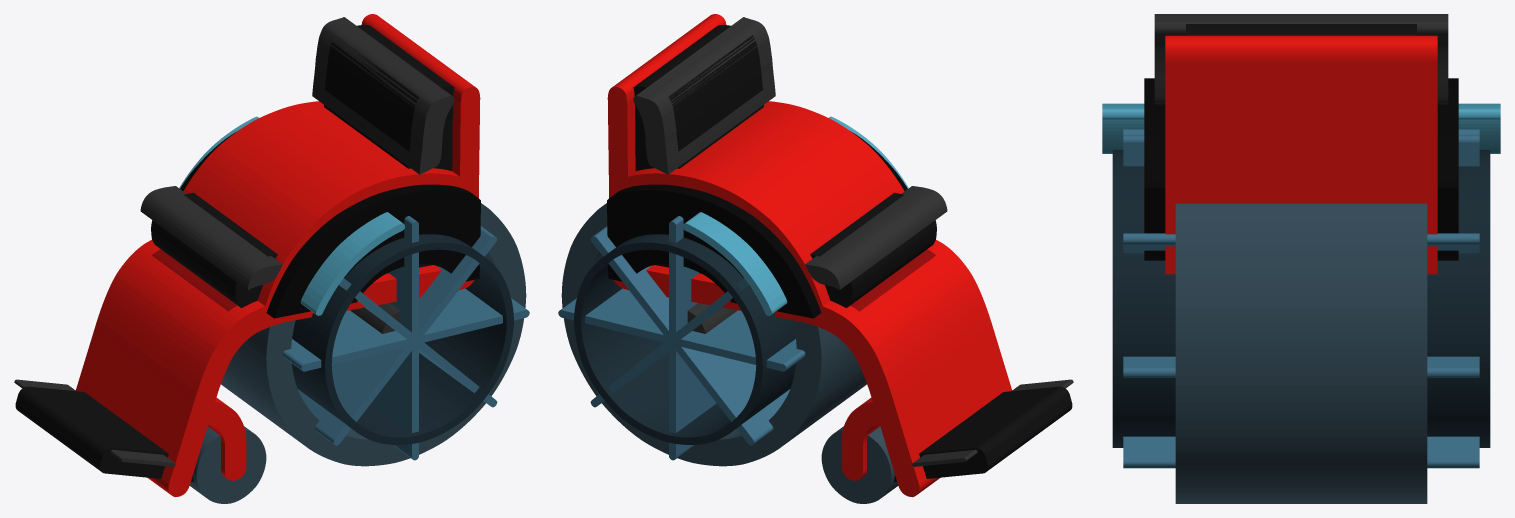
3 renders of one model, left to right at view 1: azimuth 30°, elevation 25°; view 2: azimuth 150°, elevation 25°; view 3: azimuth 270°, elevation 25°, orthographic. The views are drawn at different scales.
Visible parts, largest first — view 1: U+1F9BD_layer03_obj00, U+1F9BD_layer03_obj01, U+1F9BD_layer08_obj00, U+1F9BD_layer02_obj01, U+1F9BD_layer05_obj00, U+1F9BD_layer04_obj00, U+1F9BD_layer01_obj02, U+1F9BD_layer01_obj03, U+1F9BD_layer07_obj02, U+1F9BD_layer04_obj01, U+1F9BD_layer07_obj00, U+1F9BD_layer07_obj04 (+7 smaller); view 2: U+1F9BD_layer03_obj00, U+1F9BD_layer03_obj01, U+1F9BD_layer08_obj00, U+1F9BD_layer02_obj01, U+1F9BD_layer05_obj00, U+1F9BD_layer04_obj00, U+1F9BD_layer01_obj03, U+1F9BD_layer01_obj02, U+1F9BD_layer07_obj02, U+1F9BD_layer04_obj01, U+1F9BD_layer07_obj00, U+1F9BD_layer07_obj04 (+7 smaller); view 3: U+1F9BD_layer02_obj01, U+1F9BD_layer03_obj00, U+1F9BD_layer08_obj00, U+1F9BD_layer05_obj00, U+1F9BD_layer04_obj00, U+1F9BD_layer07_obj03, U+1F9BD_layer09_obj00, U+1F9BD_layer01_obj03, U+1F9BD_layer07_obj00, U+1F9BD_layer07_obj02, U+1F9BD_layer07_obj04.
Part boxes in pixels (bbox=[...]): U+1F9BD_layer03_obj00: bbox=[75, 14, 480, 497]; U+1F9BD_layer03_obj01: bbox=[183, 101, 473, 324]; U+1F9BD_layer08_obj00: bbox=[292, 234, 513, 444]; U+1F9BD_layer02_obj01: bbox=[221, 203, 526, 466]; U+1F9BD_layer05_obj00: bbox=[180, 131, 480, 318]; U+1F9BD_layer04_obj00: bbox=[312, 17, 454, 174]; U+1F9BD_layer01_obj02: bbox=[15, 386, 194, 481]; U+1F9BD_layer01_obj03: bbox=[324, 25, 454, 170]; U+1F9BD_layer07_obj02: bbox=[297, 226, 497, 445]; U+1F9BD_layer04_obj01: bbox=[140, 186, 282, 290]; U+1F9BD_layer07_obj00: bbox=[282, 288, 529, 371]; U+1F9BD_layer07_obj04: bbox=[371, 216, 418, 460]; U+1F9BD_layer03_obj00: bbox=[607, 14, 1012, 497]; U+1F9BD_layer03_obj01: bbox=[614, 101, 904, 324]; U+1F9BD_layer08_obj00: bbox=[574, 234, 795, 444]; U+1F9BD_layer02_obj01: bbox=[561, 203, 866, 466]; U+1F9BD_layer05_obj00: bbox=[607, 131, 907, 318]; U+1F9BD_layer04_obj00: bbox=[633, 17, 775, 174]; U+1F9BD_layer01_obj03: bbox=[633, 25, 763, 170]; U+1F9BD_layer01_obj02: bbox=[893, 386, 1072, 481]; U+1F9BD_layer07_obj02: bbox=[590, 226, 790, 445]; U+1F9BD_layer04_obj01: bbox=[805, 186, 947, 290]; U+1F9BD_layer07_obj00: bbox=[558, 288, 805, 371]; U+1F9BD_layer07_obj04: bbox=[669, 216, 716, 460]; U+1F9BD_layer02_obj01: bbox=[1175, 203, 1427, 503]; U+1F9BD_layer03_obj00: bbox=[1165, 35, 1437, 274]; U+1F9BD_layer08_obj00: bbox=[1112, 150, 1490, 447]; U+1F9BD_layer05_obj00: bbox=[1144, 78, 1458, 260]; U+1F9BD_layer04_obj00: bbox=[1154, 14, 1448, 104]; U+1F9BD_layer07_obj03: bbox=[1123, 129, 1479, 468]; U+1F9BD_layer09_obj00: bbox=[1102, 103, 1500, 153]; U+1F9BD_layer01_obj03: bbox=[1186, 24, 1416, 35]; U+1F9BD_layer07_obj00: bbox=[1123, 356, 1479, 377]; U+1F9BD_layer07_obj02: bbox=[1123, 233, 1479, 253]; U+1F9BD_layer07_obj04: bbox=[1123, 135, 1479, 166].
Bounding box in the file's own units: 0.3181 × 0.2602 × 0.19.
